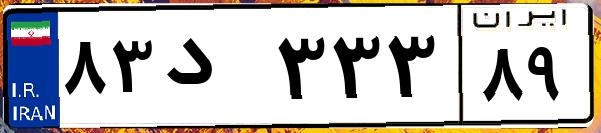3: (270, 28, 330, 110), (385, 28, 445, 110), (330, 28, 385, 110), (110, 28, 158, 98)
8: (57, 26, 110, 100), (475, 38, 525, 113)
9: (525, 38, 570, 115)
د: (158, 20, 270, 120)
